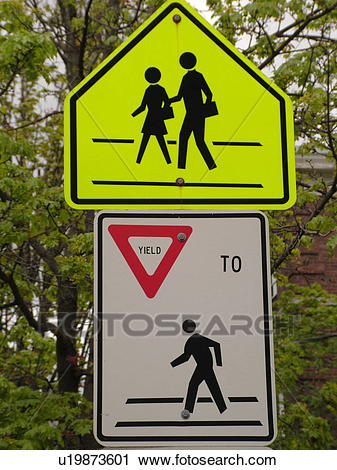slow: (60, 1, 300, 212)
